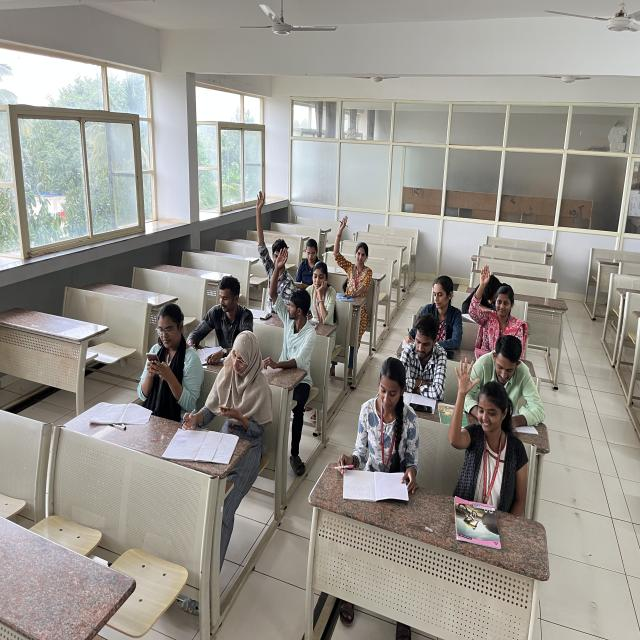Hand Rising: (444, 352, 526, 490), (267, 244, 316, 357), (252, 190, 307, 284), (470, 267, 524, 348), (331, 213, 372, 288)
Reading: (402, 321, 450, 401)
Using Phone: (139, 306, 205, 406), (210, 330, 266, 423), (302, 258, 338, 322)
Writing: (332, 358, 418, 481), (190, 275, 254, 364), (400, 274, 461, 352)
